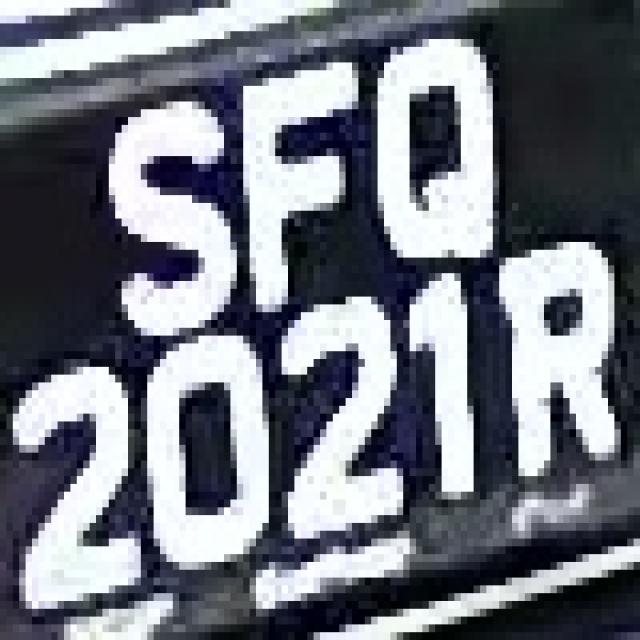0: (140, 320, 282, 578)
1: (410, 266, 512, 538)
2: (275, 304, 416, 554), (26, 352, 147, 624)
F: (224, 47, 378, 289)
Q: (365, 39, 531, 258)
R: (493, 227, 621, 508)
S: (83, 86, 256, 336)
